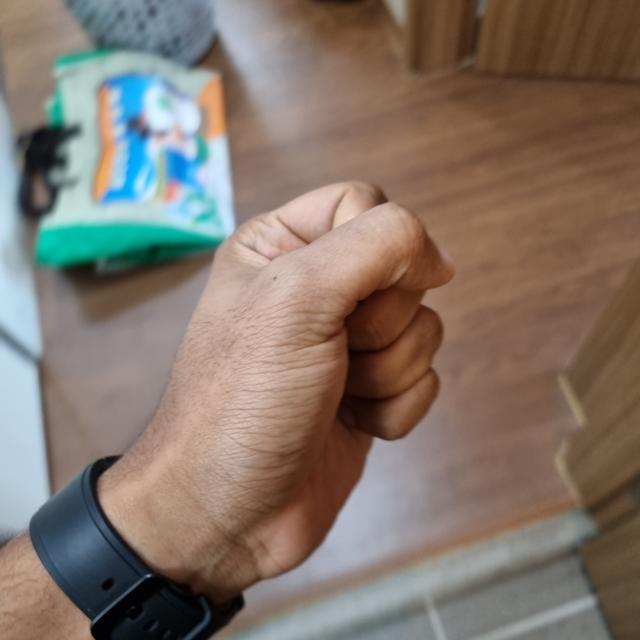Rock: (115, 185, 448, 589)
